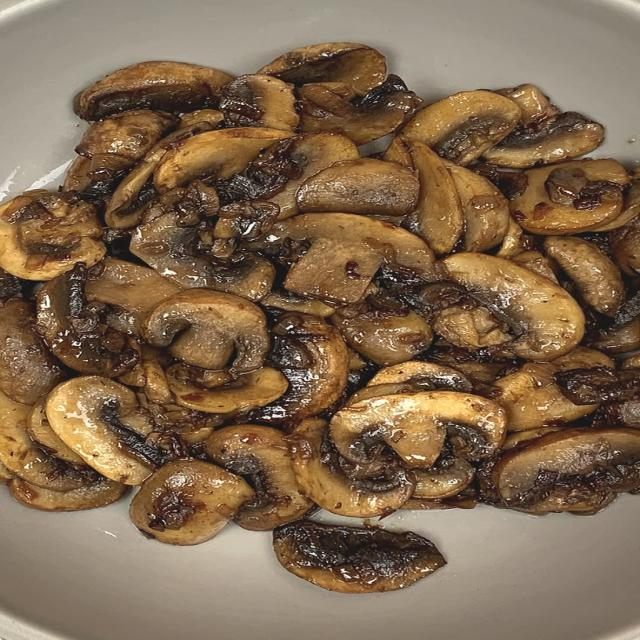champignon mushrooms: (130, 183, 274, 299), (441, 253, 584, 359), (266, 213, 434, 303), (331, 391, 506, 468), (46, 377, 164, 485), (287, 418, 415, 517), (491, 428, 639, 513), (274, 521, 446, 593), (105, 122, 213, 228), (205, 425, 313, 530), (36, 265, 138, 376), (250, 312, 348, 424), (143, 289, 270, 373), (130, 460, 254, 545), (63, 109, 177, 201), (492, 347, 613, 431), (0, 394, 99, 491), (0, 190, 105, 280), (74, 61, 233, 120), (384, 137, 464, 254), (252, 133, 359, 219), (154, 127, 292, 193), (510, 159, 629, 235), (401, 90, 521, 165), (299, 75, 421, 145), (85, 258, 180, 335), (296, 159, 419, 216), (0, 300, 66, 405), (484, 112, 604, 168), (257, 43, 386, 95), (544, 236, 625, 315), (75, 109, 176, 171), (331, 310, 433, 366), (446, 162, 510, 251), (167, 367, 288, 413), (220, 75, 299, 131), (8, 476, 128, 511), (555, 362, 639, 405), (27, 401, 84, 464), (433, 302, 510, 348), (367, 360, 472, 392), (207, 252, 275, 301), (590, 169, 639, 232), (489, 426, 564, 464), (412, 454, 474, 499), (214, 199, 279, 240), (495, 84, 558, 126), (609, 214, 639, 276), (261, 292, 335, 317), (592, 316, 639, 353), (510, 251, 558, 282), (496, 216, 530, 258), (180, 109, 224, 128), (0, 268, 23, 300), (0, 463, 14, 485)
